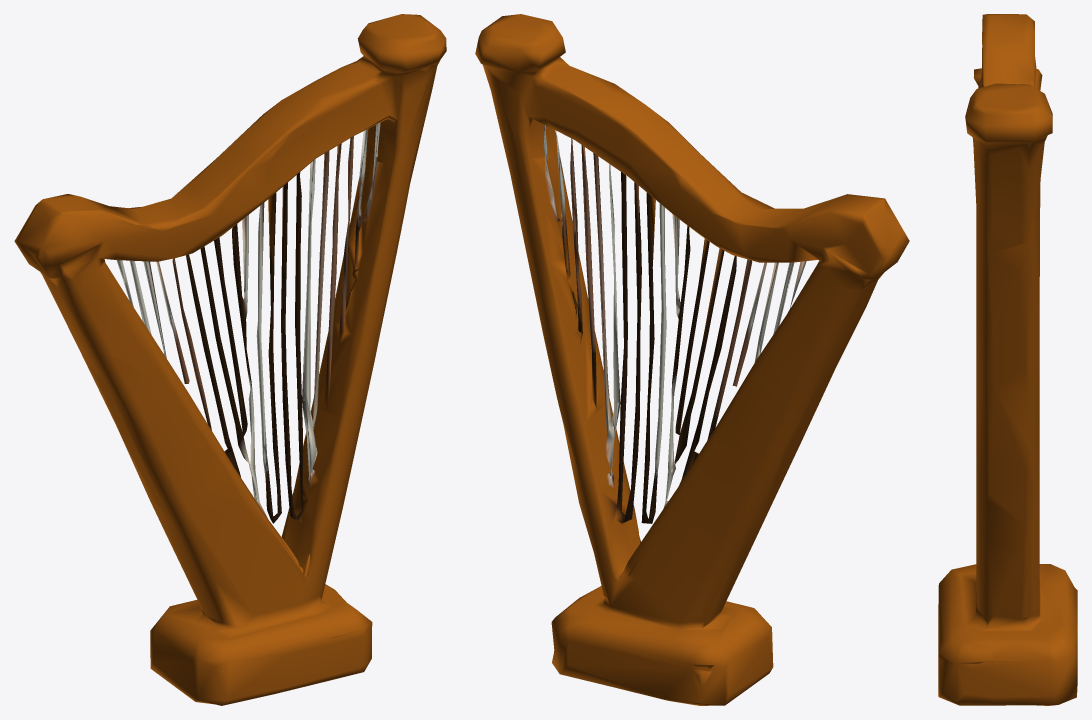
Rendered from gen3d-harp-lod0.glb.
3 views of the same model, side by side, from view 1: azimuth 30°, elevation 25°; view 2: azimuth 150°, elevation 25°; view 3: azimuth 270°, elevation 25° (orthographic). The views are drawn at different scales.
Parts seen in each view (by area): view 1: part_0; view 2: part_0; view 3: part_0.
Boxes of the visible parts, bbox=[...] form: part_0: bbox=[14, 14, 446, 705]; part_0: bbox=[475, 14, 909, 705]; part_0: bbox=[938, 14, 1077, 705].
Size of the model in its own units: 0.7109 by 1 by 0.1985.
